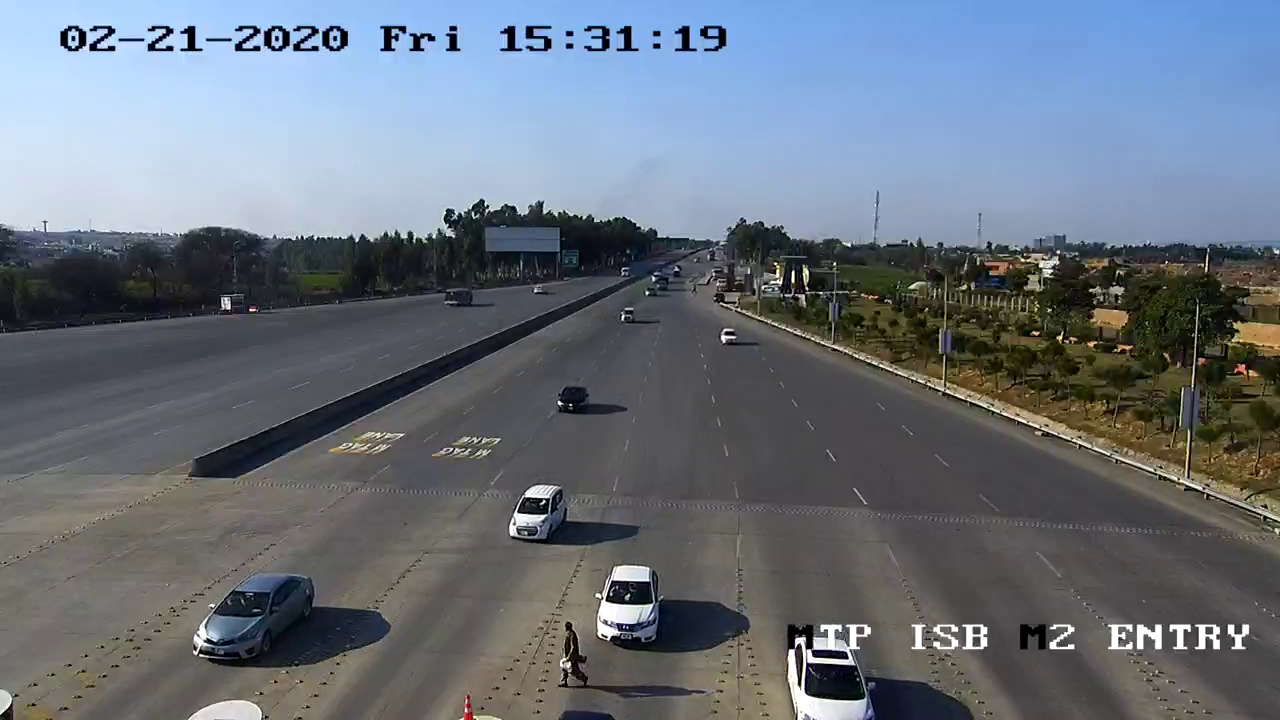f1: (185, 557, 328, 675), (588, 552, 669, 653), (494, 469, 577, 555)
